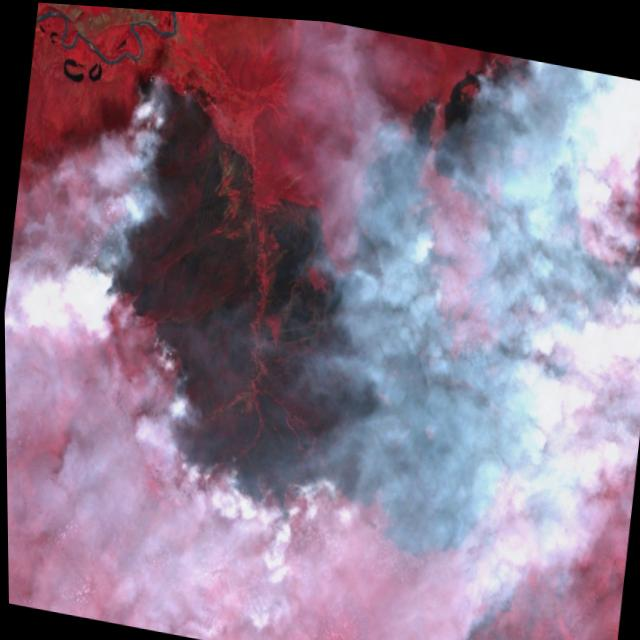fire: (48, 52, 640, 601)
